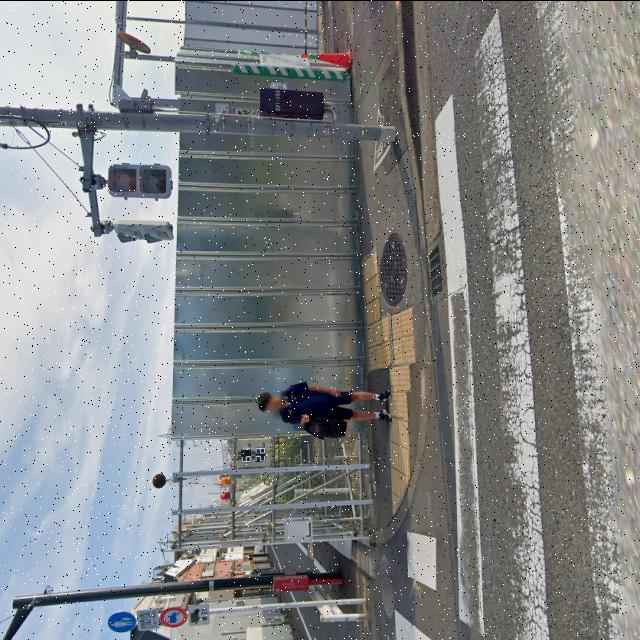traffic-light: (108, 151, 172, 206)
